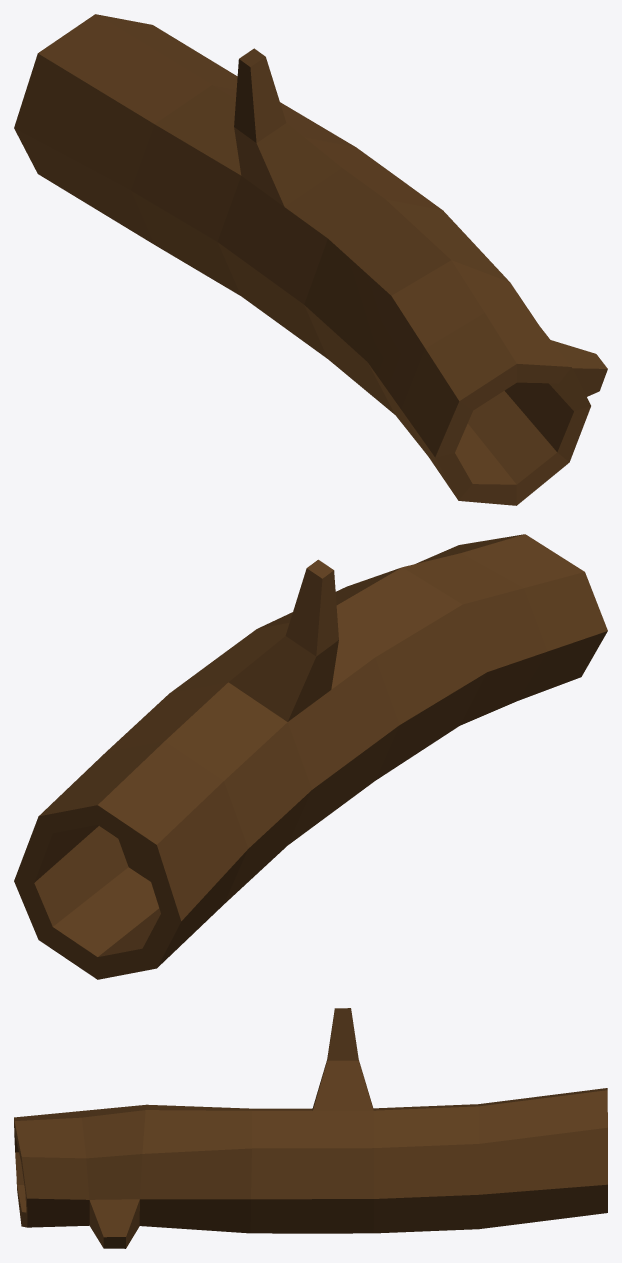
File: stump-07.glb
The picture shows the model from 3 angles, top to bottom: view 1: azimuth 30°, elevation 25°; view 2: azimuth 150°, elevation 25°; view 3: azimuth 270°, elevation 25°; orthographic projection. The views are drawn at different scales.
Parts seen in each view (by area): view 1: Log3; view 2: Log3; view 3: Log3.
Part boxes in pixels (left/top/right/bottom): Log3: left=14, top=14, right=607, bottom=505; Log3: left=14, top=534, right=607, bottom=979; Log3: left=14, top=1008, right=607, bottom=1248.
Size of the model in its own units: 1.17 by 1.36 by 3.51.
